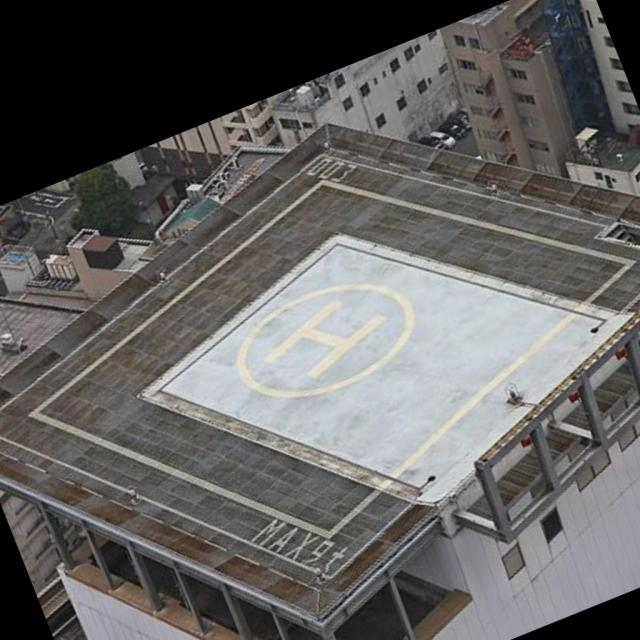helipad: (231, 275, 420, 404)
